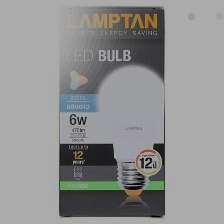carton: (52, 4, 171, 219)
